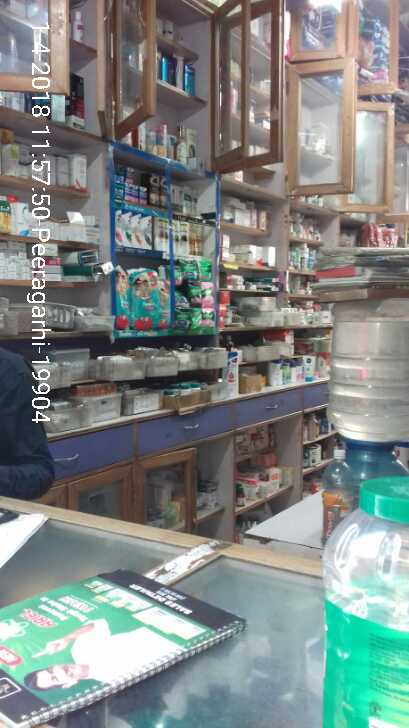vicks: (113, 169, 173, 203)
